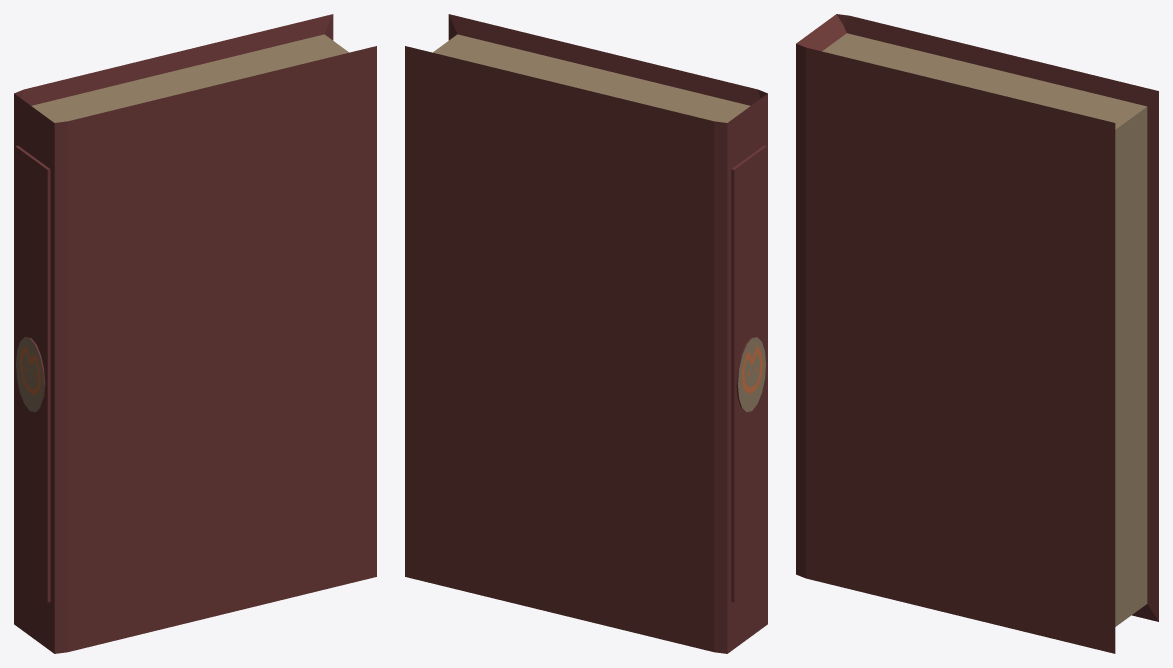
Rendered from BookFox.fbx.
3 views of the same model, side by side, from view 1: azimuth 30°, elevation 25°; view 2: azimuth 150°, elevation 25°; view 3: azimuth 330°, elevation 25° (orthographic).
Visible parts, largest first — view 1: BookCover, Insert, SymbolFace; view 2: BookCover, Insert, SymbolFace; view 3: BookCover, Insert.
Boxes of the visible parts, left/top/right/bottom form: BookCover: left=14, top=14, right=376, bottom=653; Insert: left=31, top=34, right=348, bottom=122; SymbolFace: left=16, top=337, right=43, bottom=412; BookCover: left=405, top=14, right=767, bottom=653; Insert: left=433, top=34, right=750, bottom=122; SymbolFace: left=738, top=337, right=765, bottom=412; BookCover: left=796, top=14, right=1158, bottom=653; Insert: left=822, top=33, right=1147, bottom=626.
Bounding box in the file's own units: 321 × 500 × 74.49.
3 materials, 1 textured.
